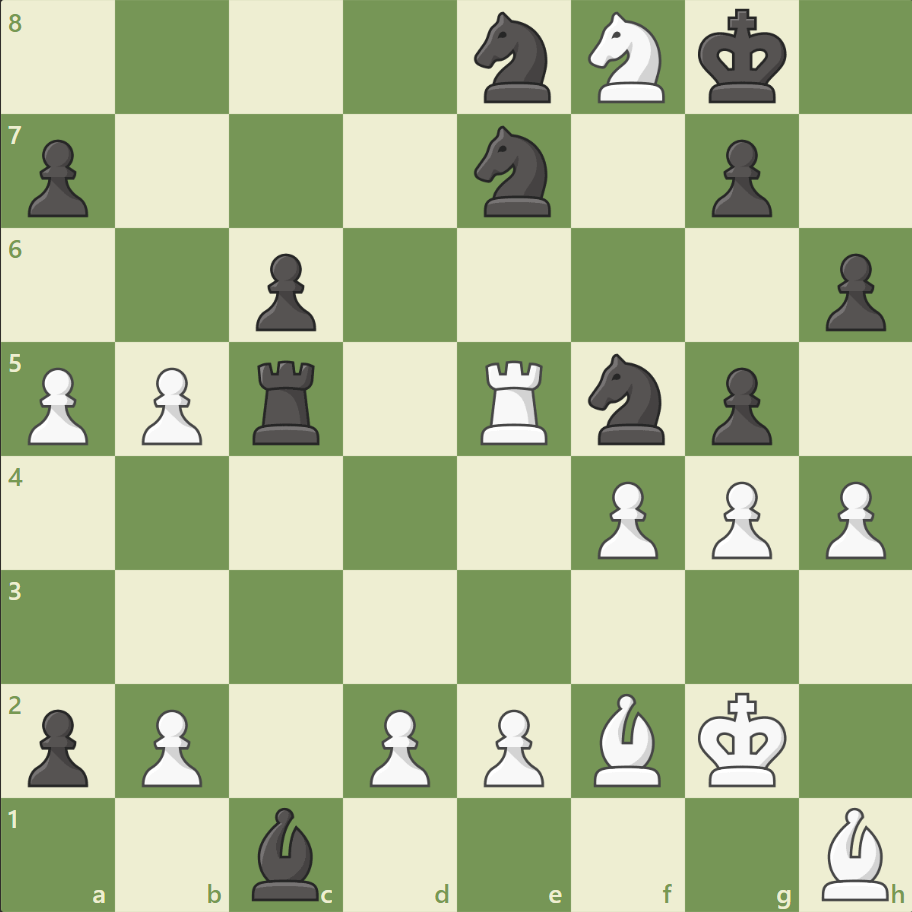B: (585, 687, 669, 790), (812, 801, 896, 904)
K: (692, 685, 792, 793)
N: (579, 7, 676, 110)
P: (20, 359, 95, 450), (133, 359, 208, 450), (701, 473, 776, 564), (133, 700, 208, 791), (474, 700, 549, 791), (588, 473, 662, 564), (815, 473, 889, 564), (361, 700, 435, 791)
R: (473, 352, 556, 449)
b: (244, 801, 328, 904)
k: (692, 4, 792, 112)
n: (465, 7, 562, 110), (465, 121, 562, 223), (579, 348, 676, 450)
p: (20, 132, 95, 223), (701, 132, 776, 223), (247, 246, 322, 337), (701, 359, 776, 450), (20, 700, 95, 791), (815, 246, 889, 337)
r: (246, 352, 329, 449)
